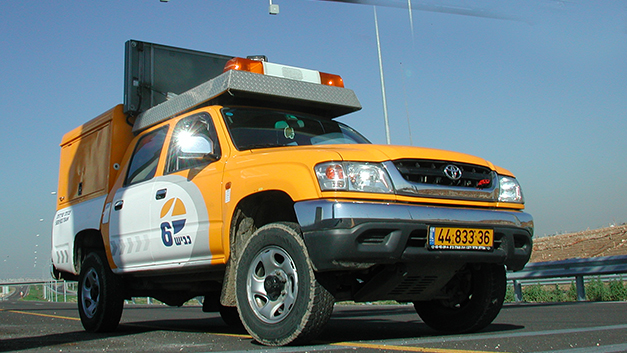licence: (425, 223, 495, 252)
